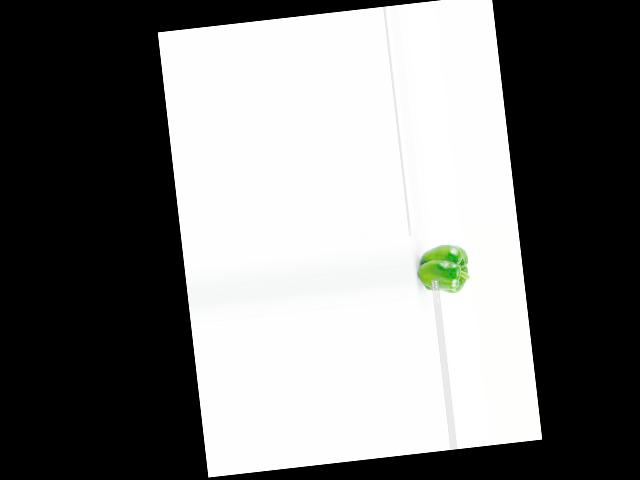bell_pepper: (412, 240, 474, 296)
